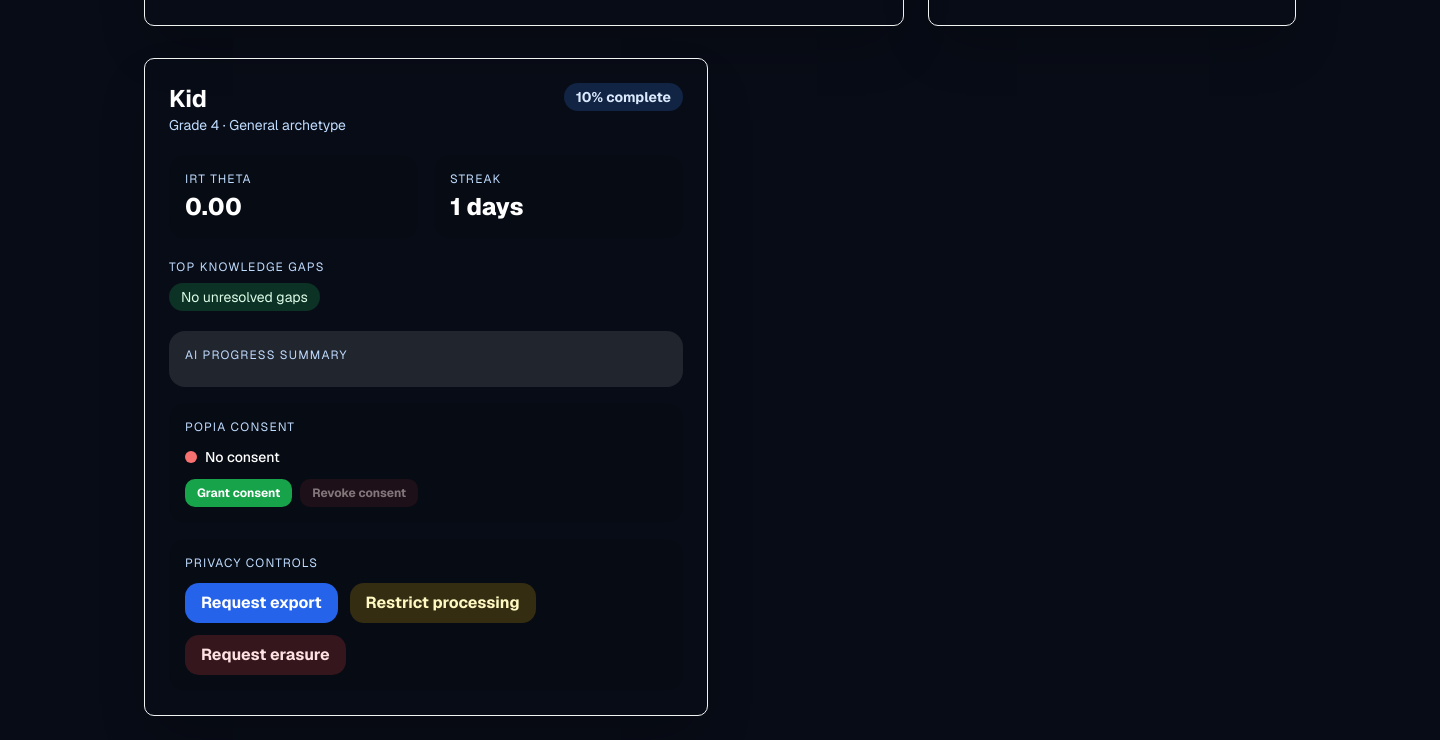
Test: data rights export updates status with audit evidence
(page scrolled)
Click the button "Request export". click: (261,602)
box: top-left (185, 582), bottom-right (338, 622)
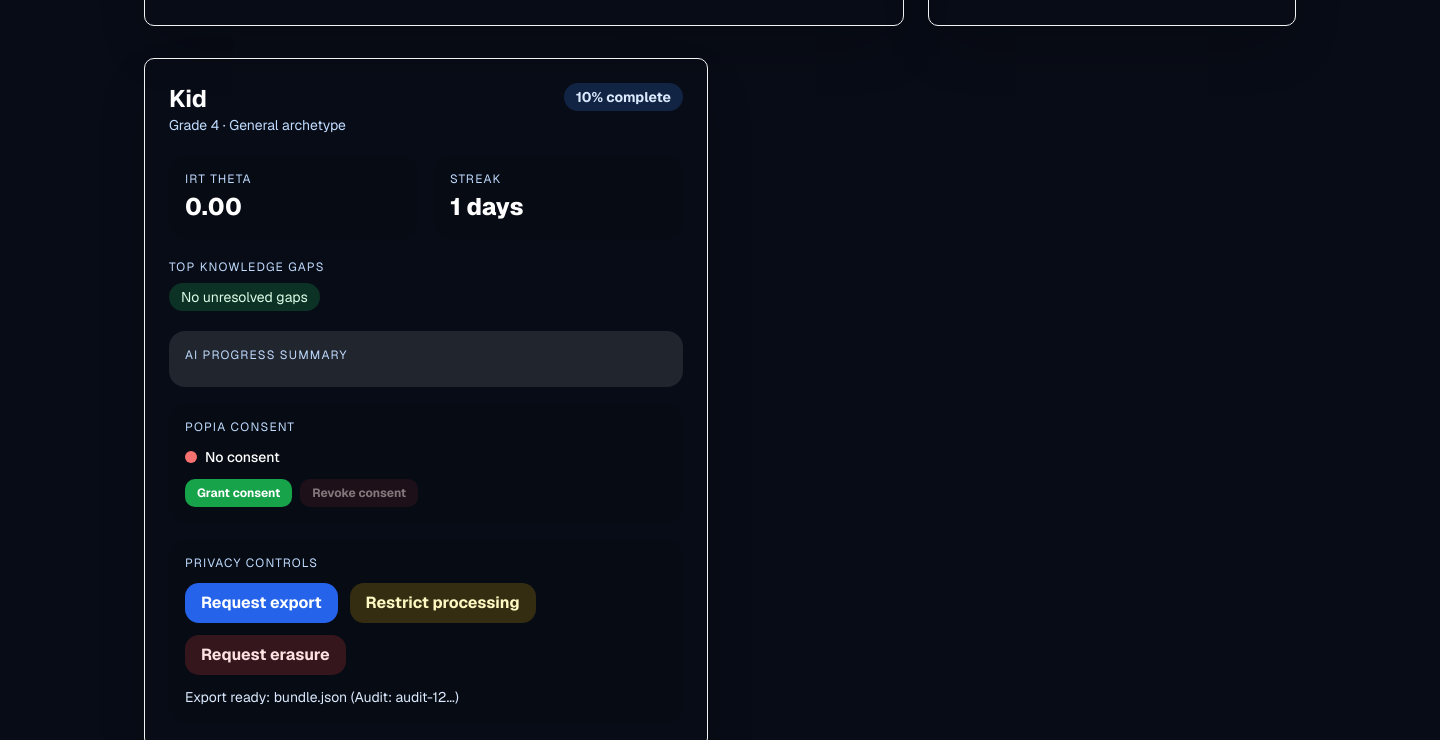
Expected: the text "Export ready: bundle.json (Audit: audit-12...)" is shown, top-left (185, 688), bottom-right (459, 706)
